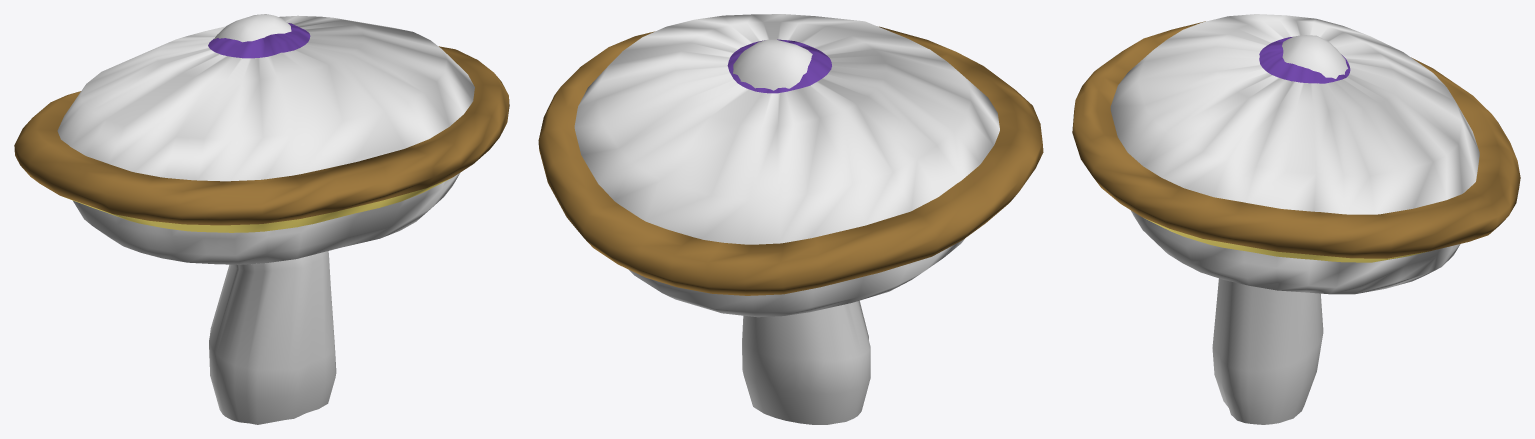
File: shailushaiHead.fbx
The picture shows the model from 3 angles, left to right: view 1: azimuth 30°, elevation 25°; view 2: azimuth 150°, elevation 25°; view 3: azimuth 270°, elevation 25°; orthographic projection. The views are drawn at different scales.
Visible parts, largest first — view 1: PM3D_Cone3D1.007, PM3D_Cone3D1.005, defaultLeg.002, PM3D_Cone3D1.006, default; view 2: PM3D_Cone3D1.007, PM3D_Cone3D1.005, defaultLeg.002, default, PM3D_Cone3D1.006; view 3: PM3D_Cone3D1.007, PM3D_Cone3D1.005, defaultLeg.002, default, PM3D_Cone3D1.006.
Part boxes in pixels (x1,y1,x2,y2): PM3D_Cone3D1.007: (57, 15, 474, 264); PM3D_Cone3D1.005: (14, 46, 509, 232); defaultLeg.002: (209, 251, 336, 424); PM3D_Cone3D1.006: (208, 23, 310, 58); default: (214, 14, 291, 42); PM3D_Cone3D1.007: (574, 14, 999, 317); PM3D_Cone3D1.005: (538, 26, 1043, 295); defaultLeg.002: (742, 300, 870, 424); default: (733, 39, 812, 90); PM3D_Cone3D1.006: (727, 39, 831, 93); PM3D_Cone3D1.007: (1110, 14, 1479, 294); PM3D_Cone3D1.005: (1072, 21, 1520, 262); defaultLeg.002: (1212, 278, 1323, 424); default: (1282, 35, 1347, 78); PM3D_Cone3D1.006: (1259, 37, 1350, 83).
Bounding box in the file's own units: 5 × 4.04 × 4.53.
